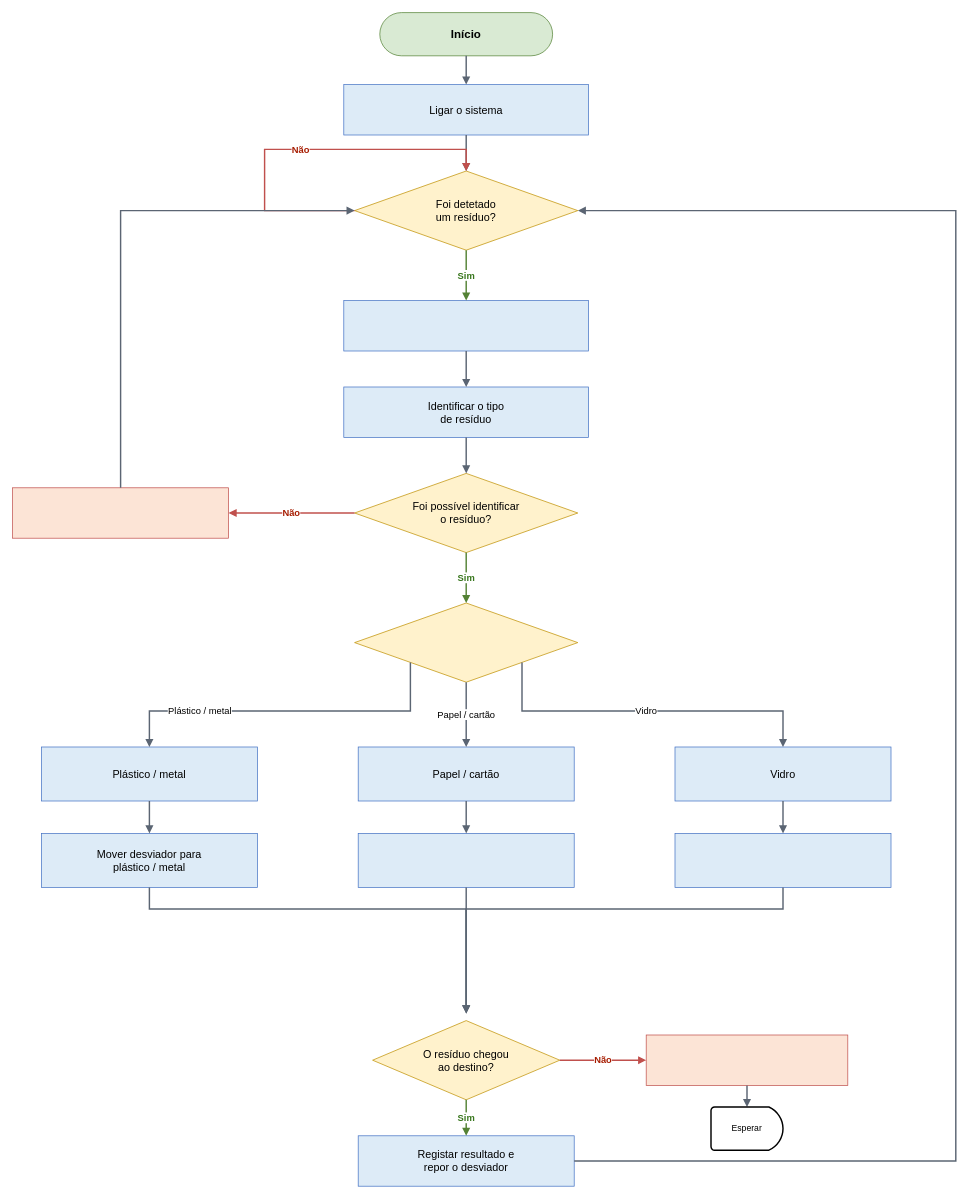
Image size: 975x1199. Some labels were removed from this diagram. The centre of each missing label's shape, as x and y in pixels:
"Encaminhar para a zona de rejeição" belongs at (x=120, y=512).
"Indicar erro e parar o sistema" belongs at (x=746, y=1059).
"Mover desviador para papel / cartão" belongs at (x=465, y=860).
"Mover desviador para vidro" belongs at (x=782, y=860).
"Qual é o tipo de resíduo?" belongs at (x=466, y=642).
"Tirar uma fotografia ao resíduo" belongs at (x=466, y=325).
